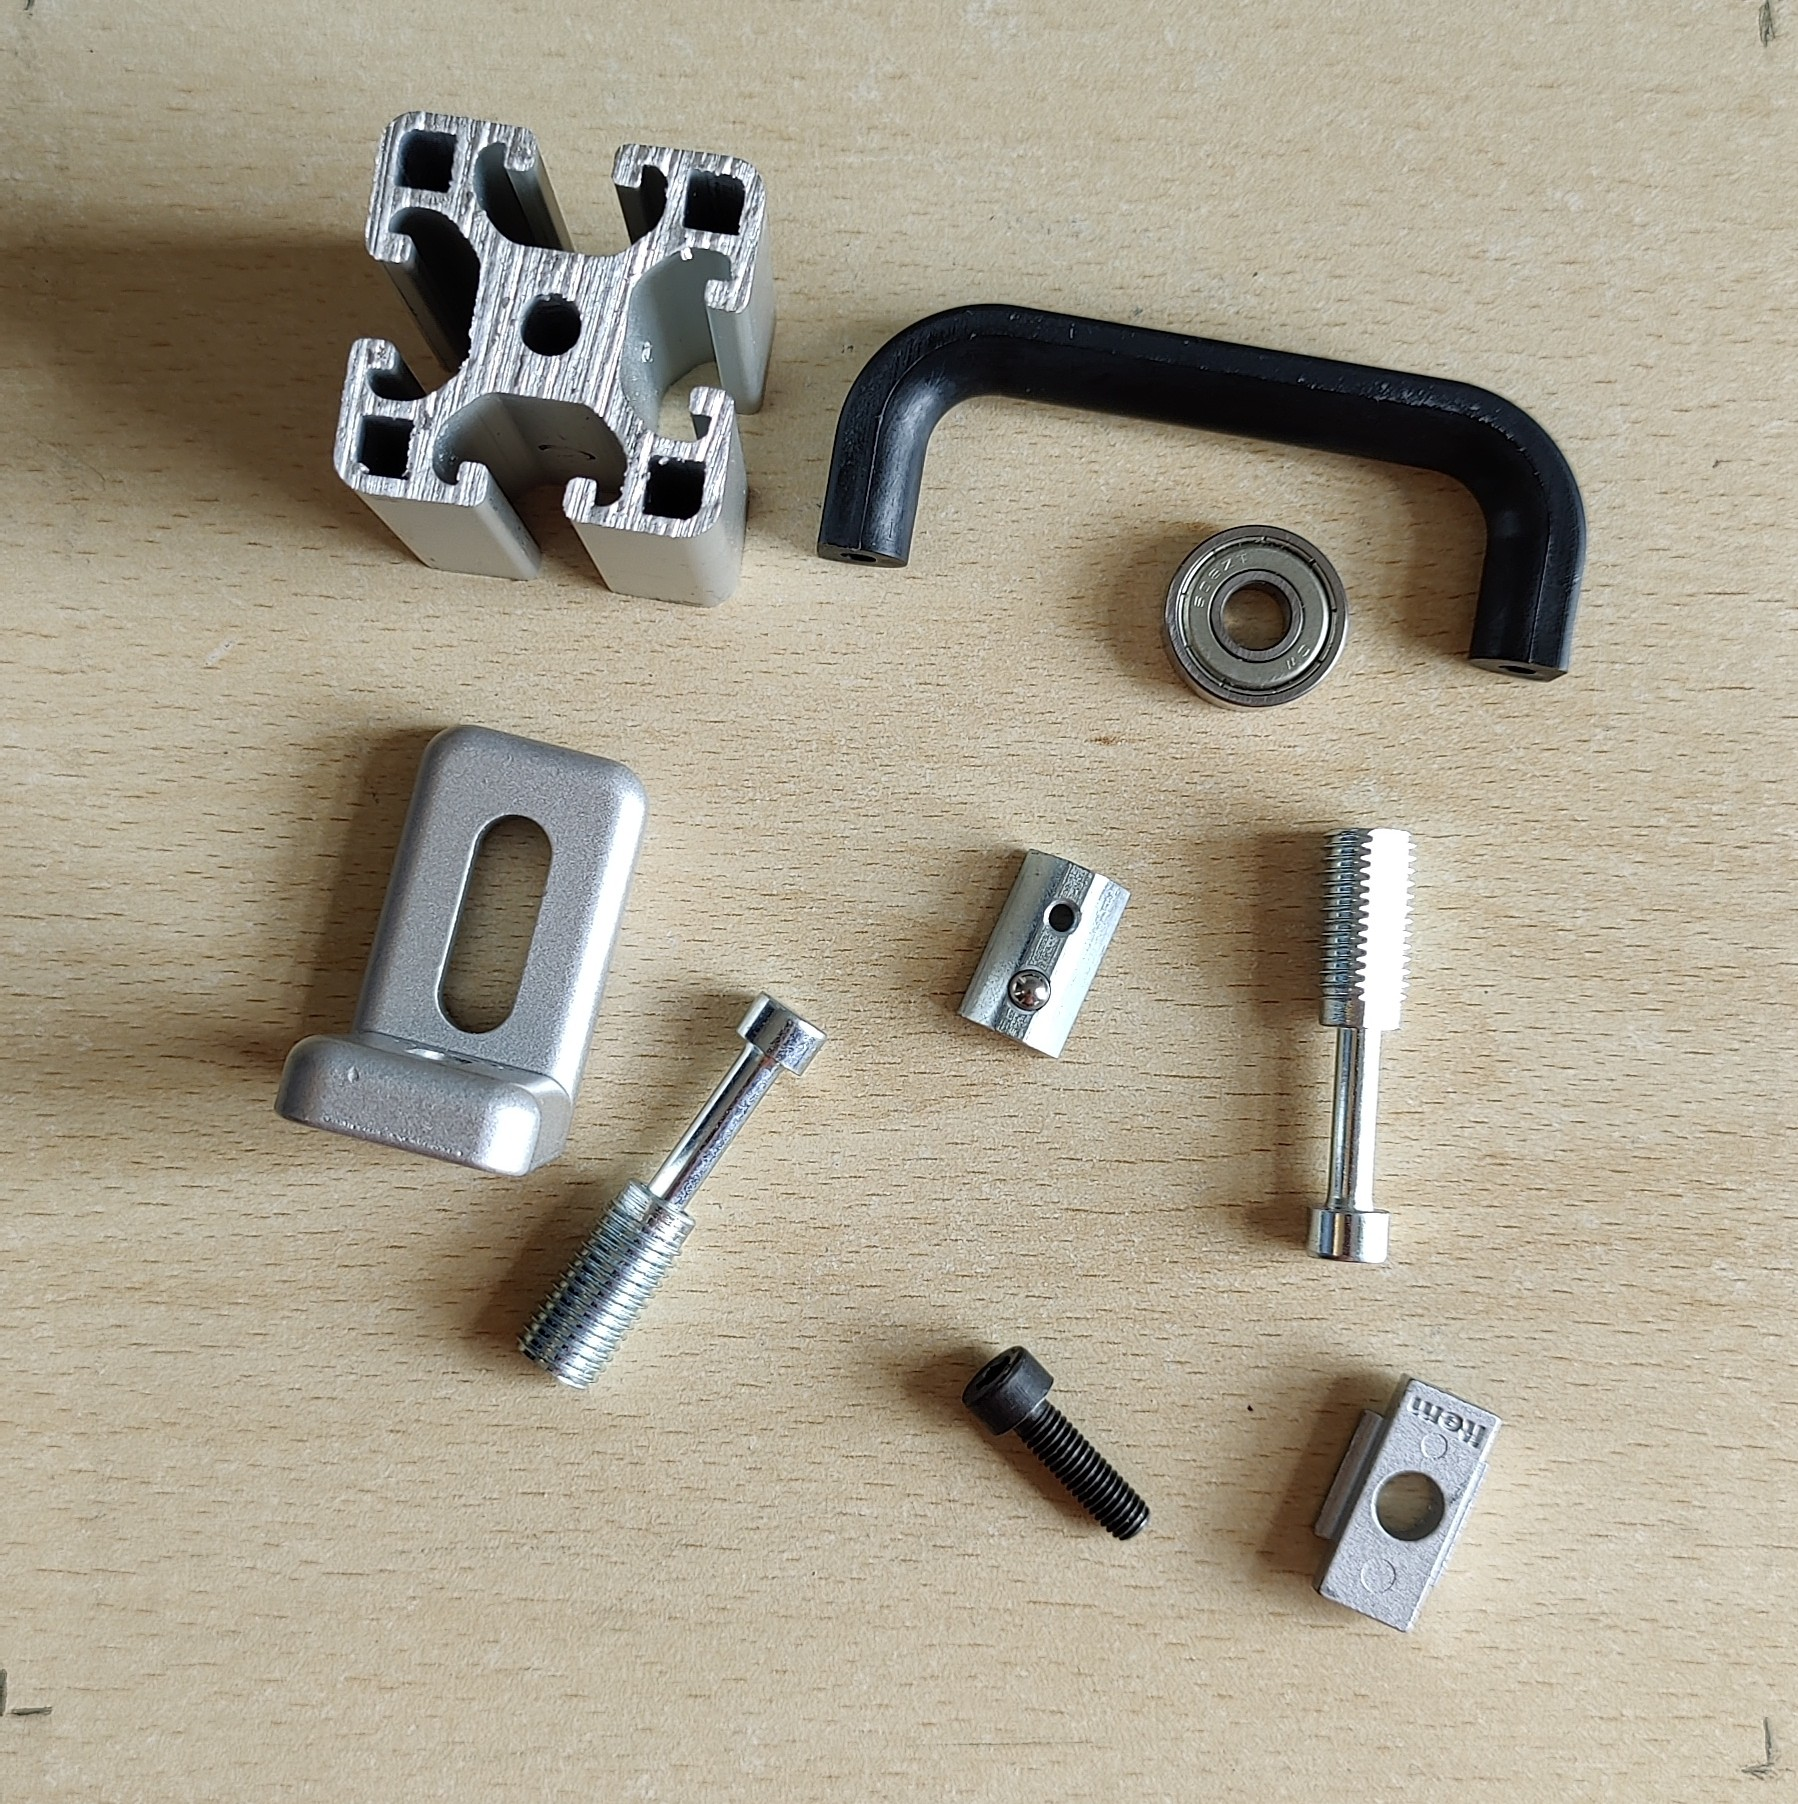Aluminium Extension: (329, 109, 780, 611)
Ball Bearing: (1161, 522, 1352, 711)
Multiwinkel: (272, 723, 650, 1182)
Pull Handle: (813, 296, 1589, 686)
Shoulder Socket Head Cap Screw: (510, 989, 830, 1393), (1301, 825, 1419, 1267)
Socket Head Cap Screw: (957, 1341, 1154, 1544)
T Nut Square: (1311, 1371, 1503, 1638)
T Spring Nut: (955, 848, 1136, 1062)
